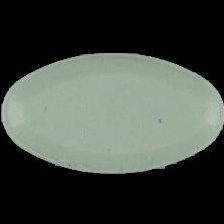68382-064: (0, 0, 224, 224)
